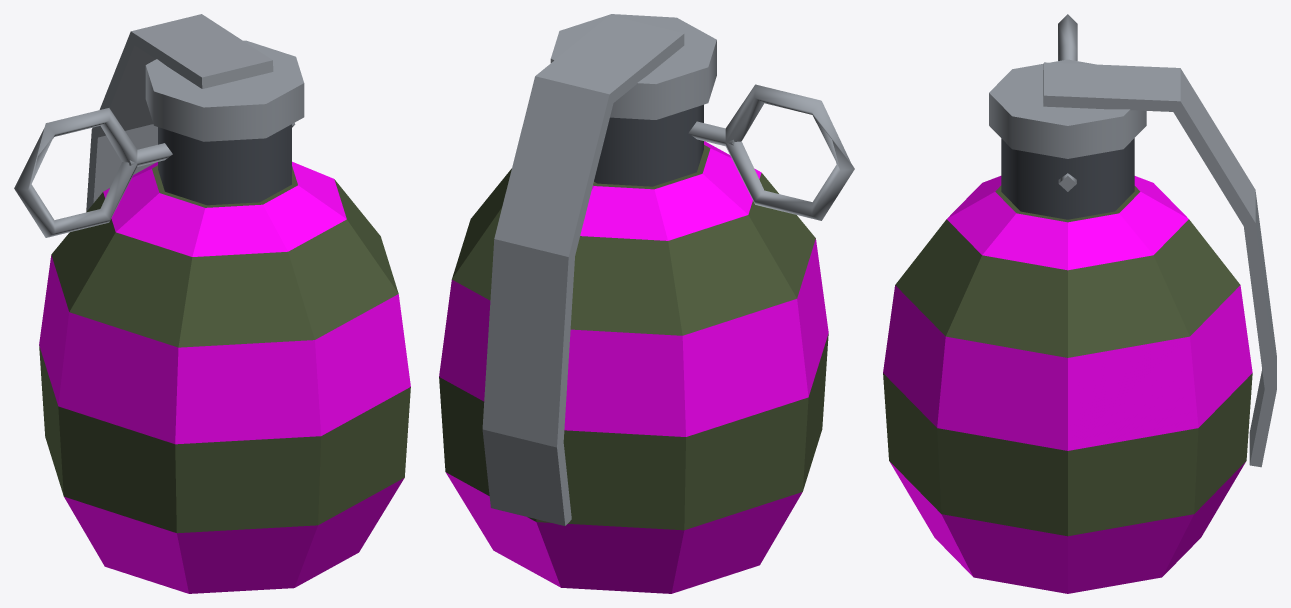
File: grenade.glb
3 views of the same model, side by side, from view 1: azimuth 30°, elevation 25°; view 2: azimuth 150°, elevation 25°; view 3: azimuth 270°, elevation 25° (orthographic). The views are drawn at different scales.
Parts seen in each view (by area): view 1: grenade__body; view 2: grenade__body; view 3: grenade__body.
Part boxes in pixels (bbox=[...]): grenade__body: bbox=[14, 14, 410, 593]; grenade__body: bbox=[439, 14, 854, 593]; grenade__body: bbox=[883, 14, 1276, 593].
Size of the model in its own units: 0.0691 by 0.0875 by 0.065.
1 material, 1 textured.
